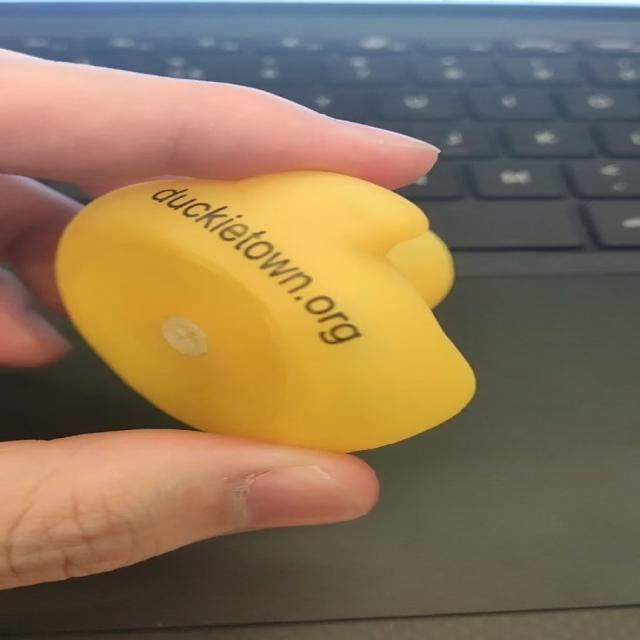rubber-duck: (55, 170, 473, 450)
